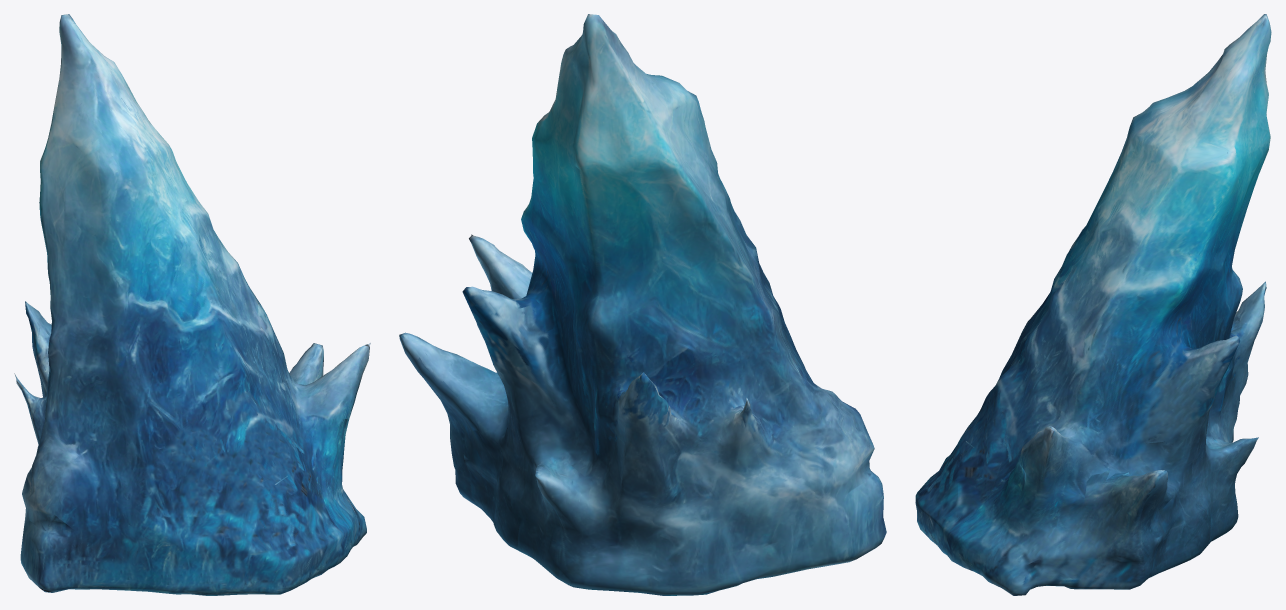
The model's file is ice_cluster_4_free.glb.
The picture shows the model from 3 angles, left to right: view 1: azimuth 30°, elevation 25°; view 2: azimuth 150°, elevation 25°; view 3: azimuth 270°, elevation 25°; orthographic projection. The views are drawn at different scales.
Parts seen in each view (by area): view 1: Object_2; view 2: Object_2; view 3: Object_2.
Boxes of the visible parts, x1,y1,x2,y2 form: Object_2: (14,14,370,595); Object_2: (399,14,886,595); Object_2: (915,14,1271,595).
Bounding box in the file's own units: 1.47 × 2 × 1.3.
1 material, 1 textured.
